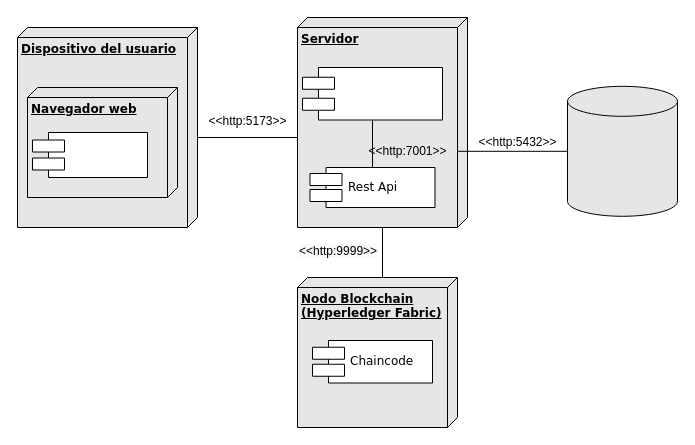
This 695x445 diagram has some shape labels left out. The shapes that lost their labels are listed below. From the top down, each one's box as (x1, y1, x2, y2) in pixels, then its label:
(302, 66, 442, 120): Servidor de la Aplicación Web
(32, 132, 148, 178): SPA
(566, 85, 678, 216): Base de Datos de los Usuarios Gestores
